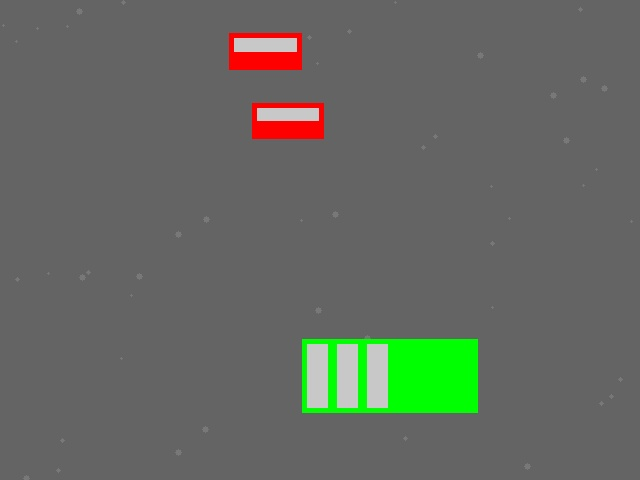bus: (302, 339, 477, 412)
car: (229, 33, 301, 69), (252, 103, 323, 138)
